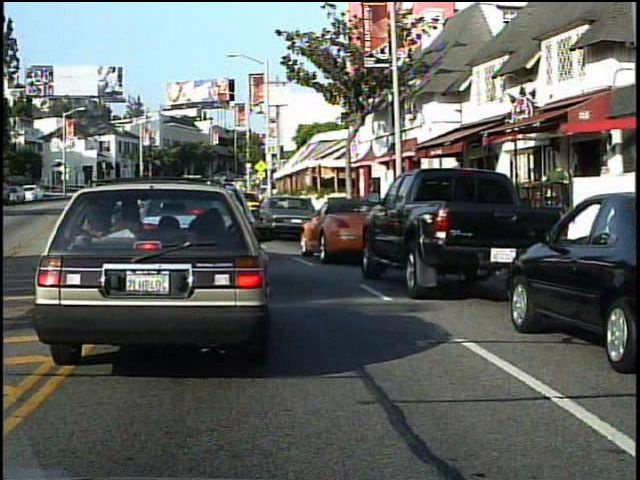person: (545, 158, 572, 227)
